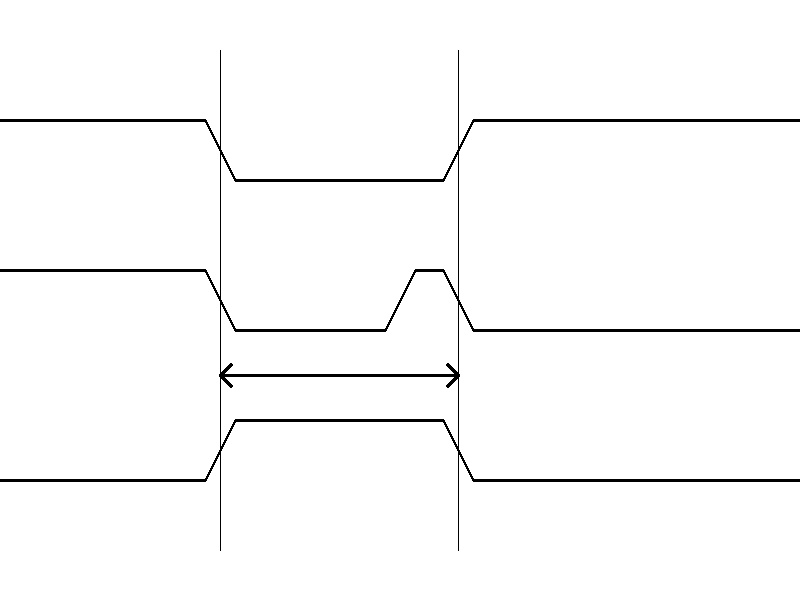double_arrow: (220, 360, 458, 390)
